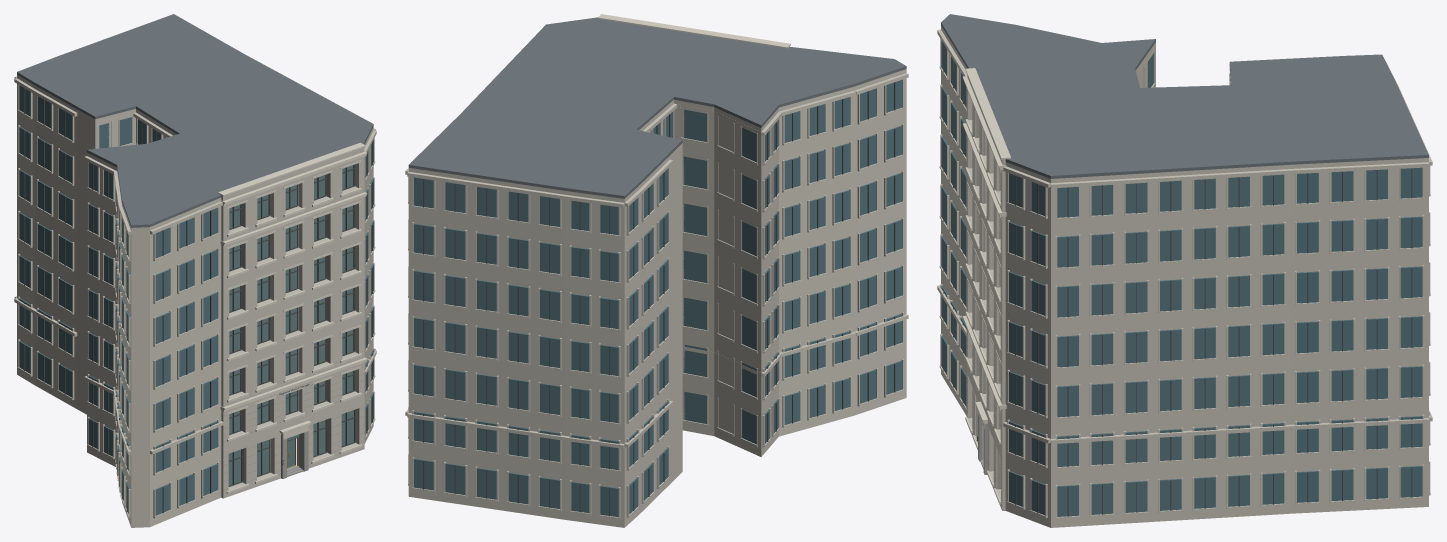
File: con-exterior-2744ddb2b3a4.glb
3 renders of one model, left to right at view 1: azimuth 30°, elevation 25°; view 2: azimuth 150°, elevation 25°; view 3: azimuth 270°, elevation 25°, orthographic. The views are drawn at different scales.
Visible parts, largest first — view 1: CON.001; view 2: CON.001; view 3: CON.001.
Boxes of the visible parts, x1,y1,x2,y2 form: CON.001: (14,14,376,527); CON.001: (405,14,908,527); CON.001: (937,14,1432,527).
Bounding box in the file's own units: 29.43 × 29.36 × 37.3.
